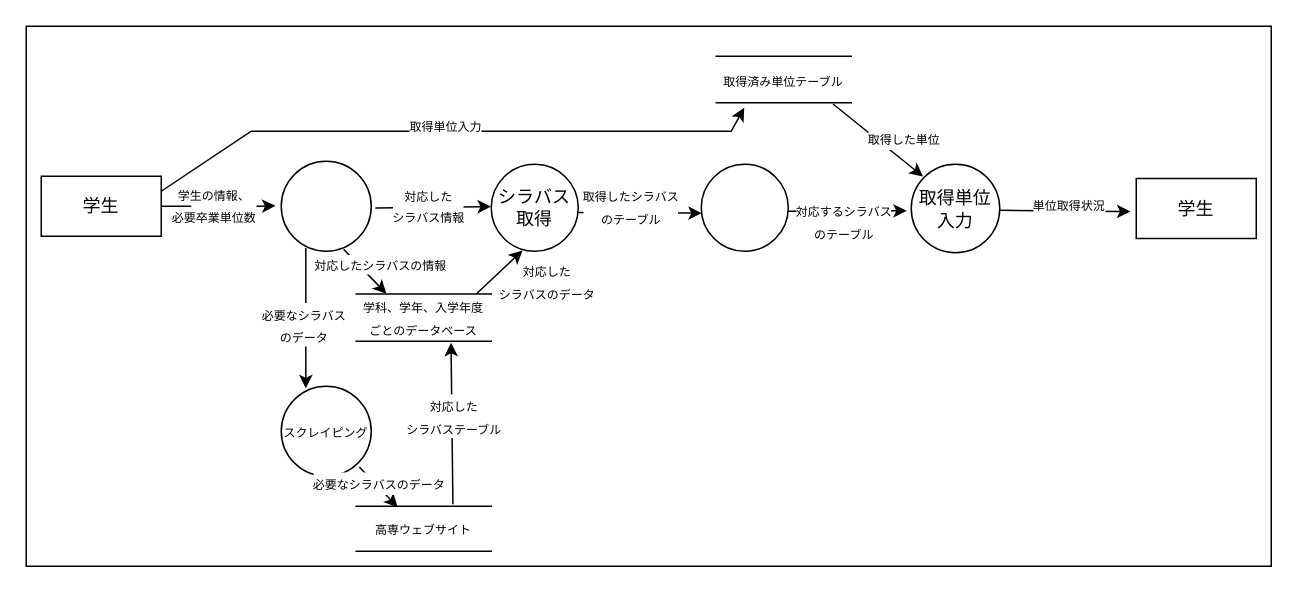
Some shapes in this 1298 by 593 pixel diagram are drawn without their labels. The shapes that lost their labels are listed below. From the top down, each one's centre as x and y in pixels, then its label:
At point (325, 205): "シラバス計算".
At point (744, 207): "画面表示".
